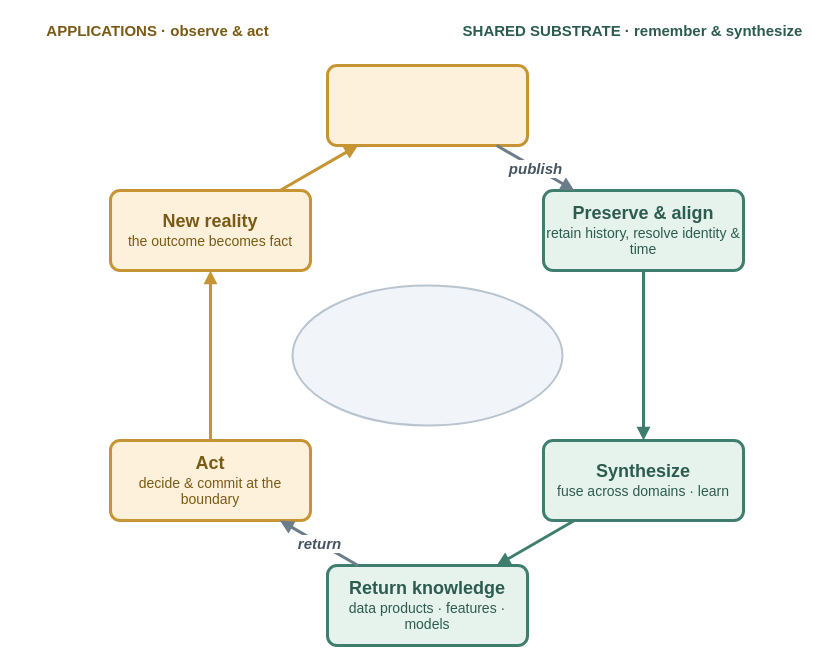
Some shapes in this 819 by 664 pixel diagram are drawn without their labels. Here are the shapes that lost their labels. From the top down, the box of each, then its label:
(326, 64, 528, 146): Observe applications sense reality
(291, 284, 563, 426): ONE information ecosystem
